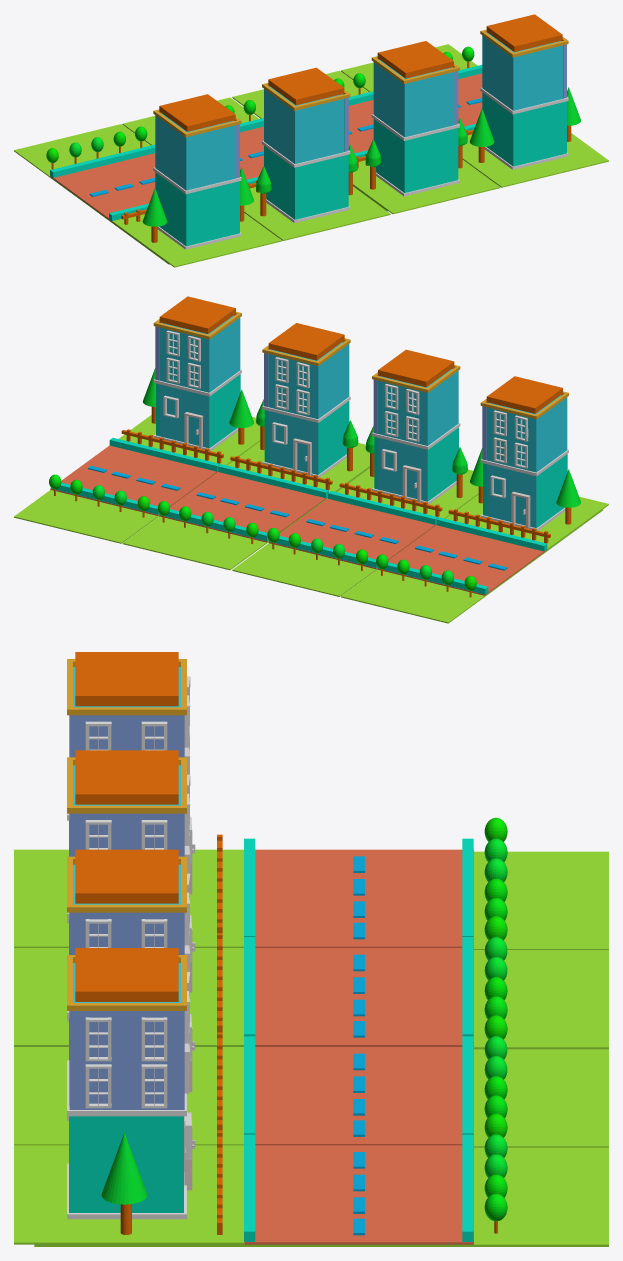
Rendered from City.fbx.
3 renders of one model, top to bottom at view 1: azimuth 30°, elevation 25°; view 2: azimuth 150°, elevation 25°; view 3: azimuth 270°, elevation 25°, orthographic. The views are drawn at different scales.
Visible parts, largest first — view 1: Cube.045, Cube.151, Cube, Cube.101, Cube.055, Cube.105, Cube.155, Cube.004, Cube.154, Cube.153, Cube.053, Cube.002 (+25 smaller); view 2: Cube.045, Cube.151, Cube, Cube.101, Cube.154, Cube.054, Cube.003, Cube.104, Cube.152, Cube.046, Cube.001, Cube.102 (+32 smaller); view 3: Cube.003, Cube.104, Cube.054, Cube.154, Cube.001, Cube.002, Cube.102, Cube.046, Cube.152, Cube.053, Cube.103, Cube.153 (+31 smaller).
Part boxes in pixels (x1=…): Cube.045: x1=373, y1=60, x2=454, y2=137; Cube.151: x1=155, y1=113, x2=235, y2=190; Cube: x1=482, y1=33, x2=562, y2=110; Cube.101: x1=264, y1=87, x2=344, y2=163; Cube.055: x1=373, y1=119, x2=458, y2=192; Cube.105: x1=264, y1=146, x2=348, y2=219; Cube.155: x1=155, y1=172, x2=239, y2=246; Cube.004: x1=482, y1=92, x2=566, y2=166; Cube.154: x1=50, y1=153, x2=155, y2=221; Cube.153: x1=112, y1=213, x2=281, y2=267; Cube.053: x1=353, y1=160, x2=500, y2=214; Cube.002: x1=462, y1=133, x2=608, y2=187; Cube.045: x1=268, y1=342, x2=349, y2=474; Cube.151: x1=486, y1=395, x2=567, y2=528; Cube: x1=159, y1=315, x2=240, y2=448; Cube.101: x1=378, y1=369, x2=458, y2=501; Cube.154: x1=377, y1=525, x2=546, y2=595; Cube.054: x1=159, y1=472, x2=327, y2=542; Cube.003: x1=50, y1=445, x2=218, y2=515; Cube.104: x1=268, y1=499, x2=436, y2=568; Cube.152: x1=341, y1=509, x2=603, y2=623; Cube.046: x1=122, y1=467, x2=369, y2=570; Cube.001: x1=14, y1=443, x2=257, y2=543; Cube.102: x1=232, y1=494, x2=478, y2=596; Cube.003: x1=244, y1=1145, x2=473, y2=1244; Cube.104: x1=255, y1=948, x2=473, y2=1046; Cube.054: x1=255, y1=1047, x2=473, y2=1145; Cube.154: x1=255, y1=849, x2=473, y2=947; Cube.001: x1=34, y1=1147, x2=608, y2=1246; Cube.002: x1=14, y1=1145, x2=243, y2=1244; Cube.102: x1=474, y1=950, x2=608, y2=1049; Cube.046: x1=474, y1=1049, x2=608, y2=1147; Cube.152: x1=474, y1=851, x2=608, y2=949; Cube.053: x1=14, y1=1047, x2=243, y2=1145; Cube.103: x1=14, y1=948, x2=243, y2=1046; Cube.153: x1=14, y1=849, x2=243, y2=947.
Bounding box in the file's own units: 16202 × 4383 × 10352.
